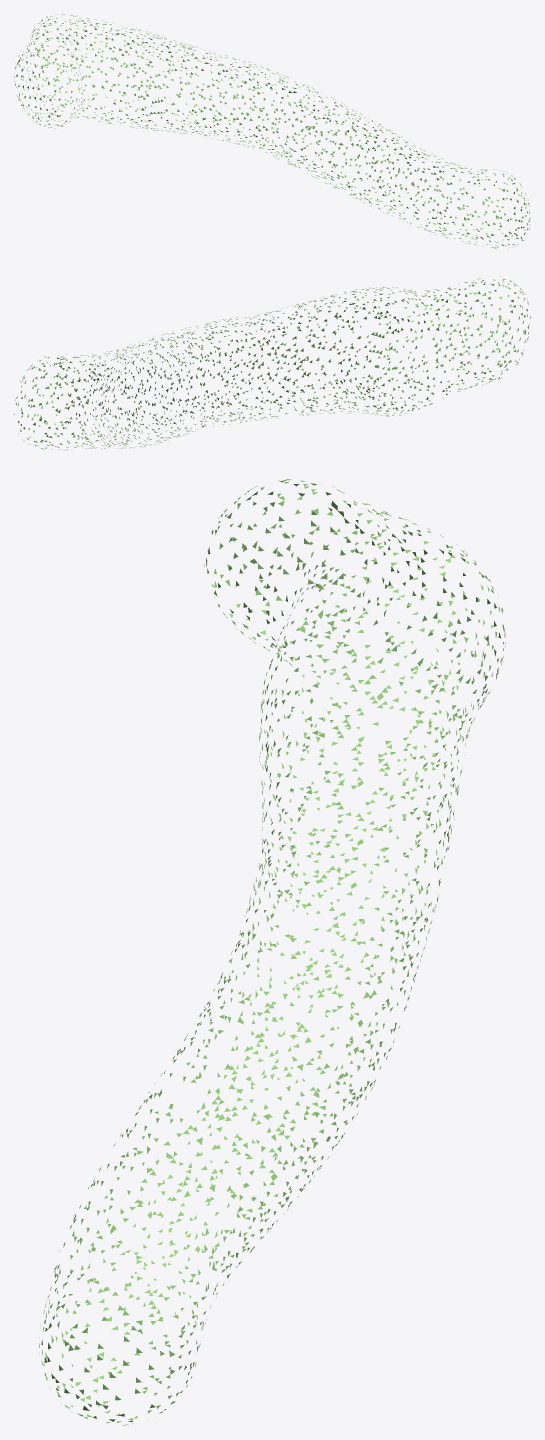
Rendered from morph_014.glb.
3 views of the same model, one above another, from view 1: azimuth 30°, elevation 25°; view 2: azimuth 150°, elevation 25°; view 3: azimuth 270°, elevation 25° (orthographic). The views are drawn at different scales.
Bounding box in the file's own units: 116 × 66.41 × 52.22.
